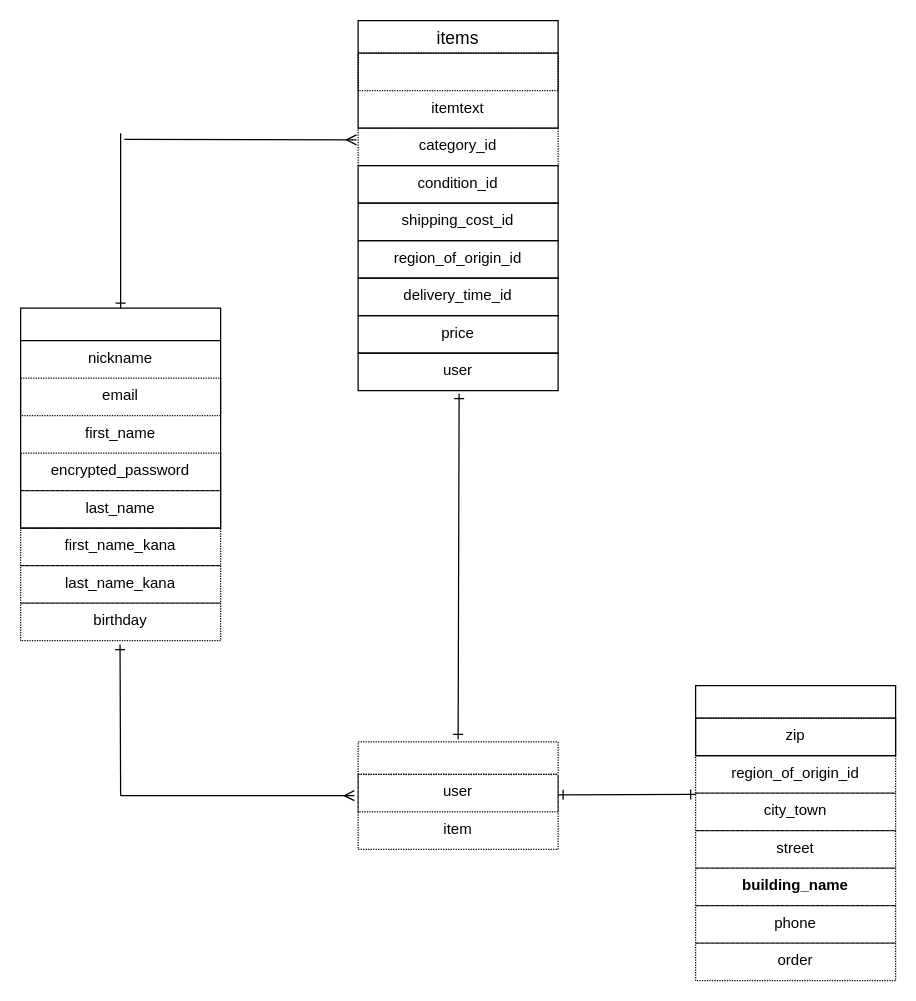
Some shapes in this 916 by 1001 pixel diagram are drawn without their labels. The box of each missing label's shape, as (x1, y1, x2, y2) in pixels:
addresses: (694, 684, 896, 756)
itemname: (357, 52, 558, 91)
orders: (357, 741, 558, 849)
Users: (19, 307, 221, 528)
